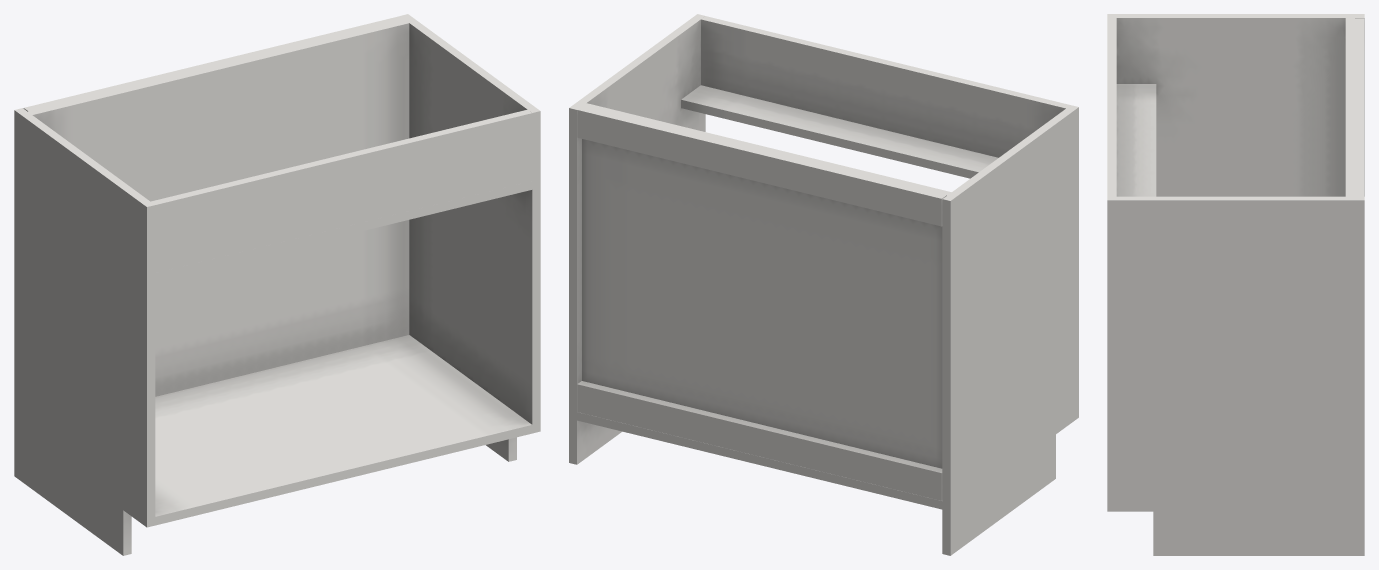
File: vanity-sink-false-drawer-doors-off.glb
3 renders of one model, left to right at view 1: azimuth 30°, elevation 25°; view 2: azimuth 150°, elevation 25°; view 3: azimuth 270°, elevation 25°, orthographic. The views are drawn at different scales.
Parts seen in each view (by area): view 1: part_0; view 2: part_0; view 3: part_0.
Boxes of the visible parts, x1,y1,x2,y2 form: part_0: (14, 14, 540, 555); part_0: (569, 14, 1078, 555); part_0: (1107, 14, 1364, 555).
Bounding box in the file's own units: 0.9144 × 0.8128 × 0.5334.
Materials: 1 (1 with a texture image).
